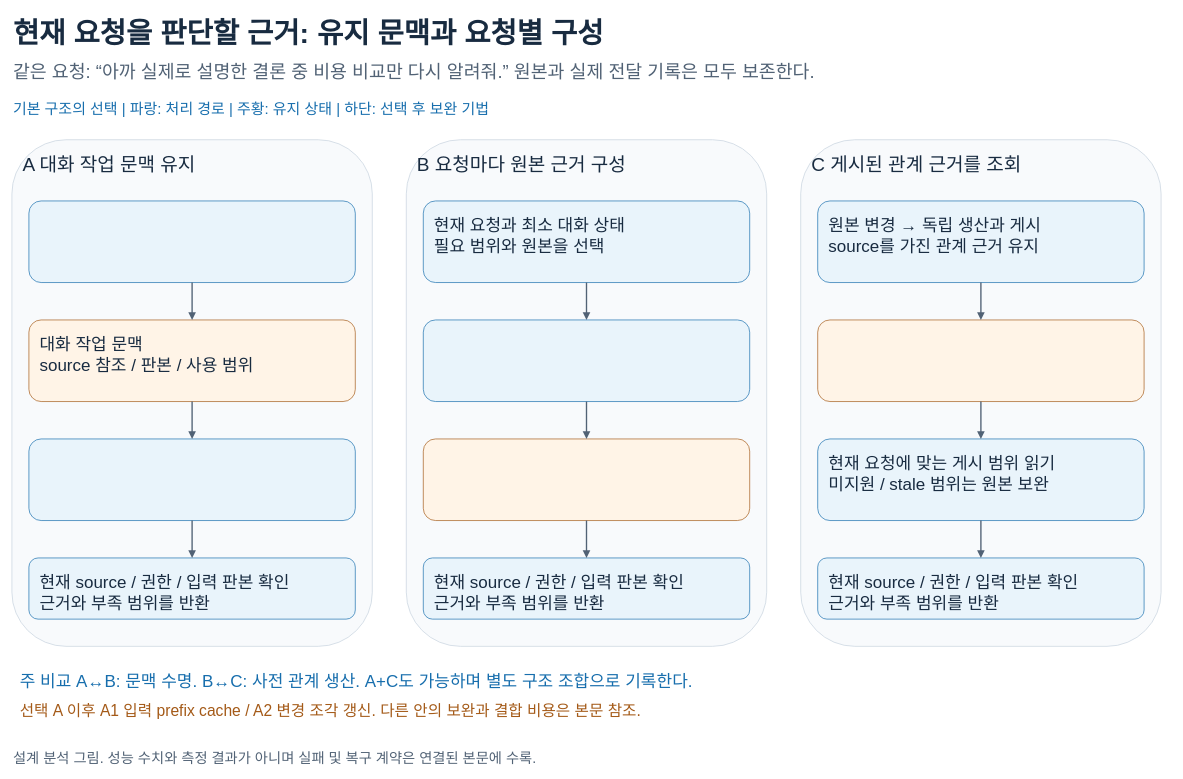
Some shapes in this 1183 by 779 pixel diagram are drawn without their labels. Each missing label, with the box of its shape:
게시 근거 / coverage / 생산 job 요청별 근거 묶음: (817, 319, 1144, 402)
요청별 근거 묶음 조회 ID / source 판본 / 누락 범위: (423, 438, 750, 521)
원본을 읽고 이번 묶음을 구성 원본별 실제 전달 / 수정 관계 결합: (423, 319, 750, 402)
이전 입력 / 실제 전달 / 관련 근거 작업 문맥을 계속 갱신: (28, 200, 355, 283)
현재 요청을 유지 문맥에서 판단 부족하거나 불일치하면 원본 읽기: (28, 438, 355, 521)
